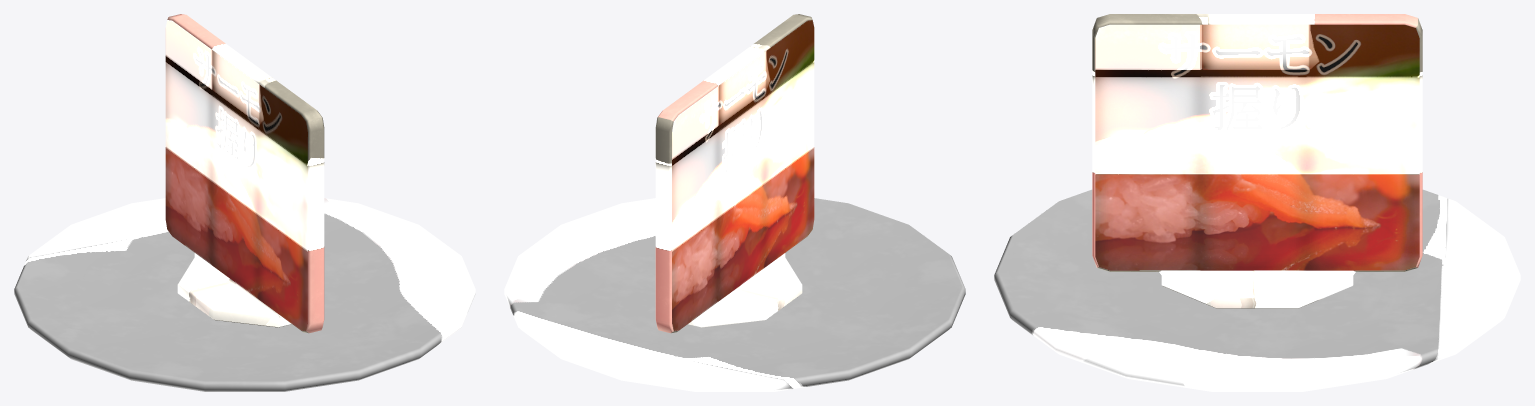
The model's file is SM_PlateAndSign.fbx.
3 renders of one model, left to right at view 1: azimuth 30°, elevation 25°; view 2: azimuth 150°, elevation 25°; view 3: azimuth 270°, elevation 25°, orthographic. The views are drawn at different scales.
Visible parts, largest first — view 1: SM_PlateAndSign_LOD0; view 2: SM_PlateAndSign_LOD0; view 3: SM_PlateAndSign_LOD0.
Boxes of the visible parts, <box> form: SM_PlateAndSign_LOD0: <box>14,14,475,391</box>; SM_PlateAndSign_LOD0: <box>504,14,965,391</box>; SM_PlateAndSign_LOD0: <box>994,14,1520,391</box>.
Size of the model in its own units: 18.71 by 19 by 11.93.
